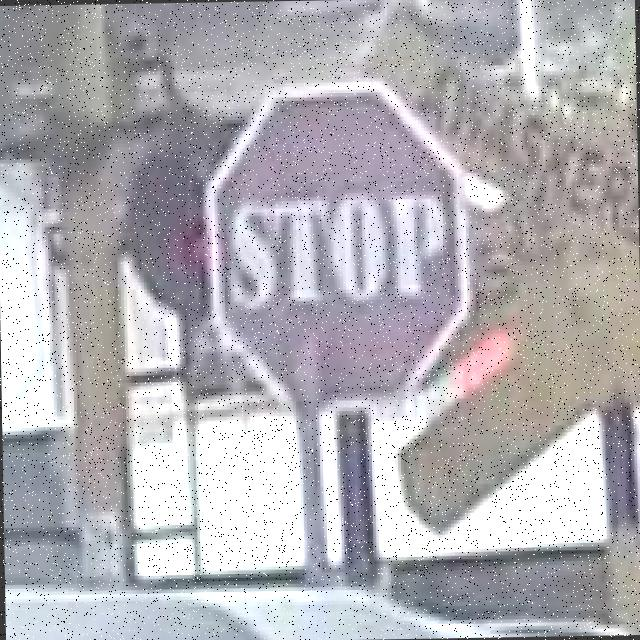Stop: (218, 94, 478, 413)
